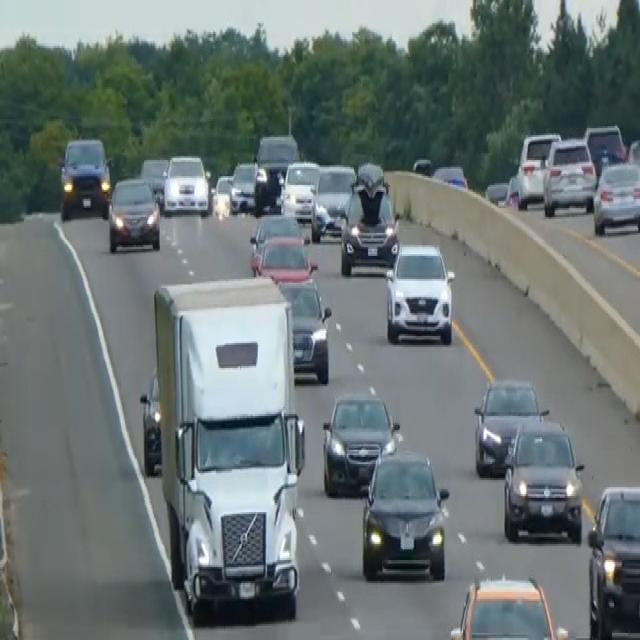car: (360, 446, 449, 582), (502, 414, 584, 542), (321, 389, 399, 496), (586, 482, 639, 638), (448, 571, 570, 638), (472, 374, 547, 476), (383, 240, 455, 345), (275, 274, 332, 384), (542, 133, 597, 217), (58, 133, 111, 219), (107, 175, 161, 252), (310, 162, 356, 242), (592, 158, 639, 235), (253, 132, 299, 208), (516, 130, 561, 206), (254, 231, 317, 283), (248, 210, 303, 268), (162, 151, 210, 217), (280, 156, 320, 222), (138, 366, 162, 476), (583, 121, 627, 174), (254, 130, 299, 169), (253, 160, 285, 213), (229, 158, 259, 214), (139, 154, 168, 204), (431, 162, 468, 190), (211, 172, 233, 218), (411, 155, 432, 176)
jeep: (338, 160, 401, 276)
lorry: (141, 272, 306, 619)
